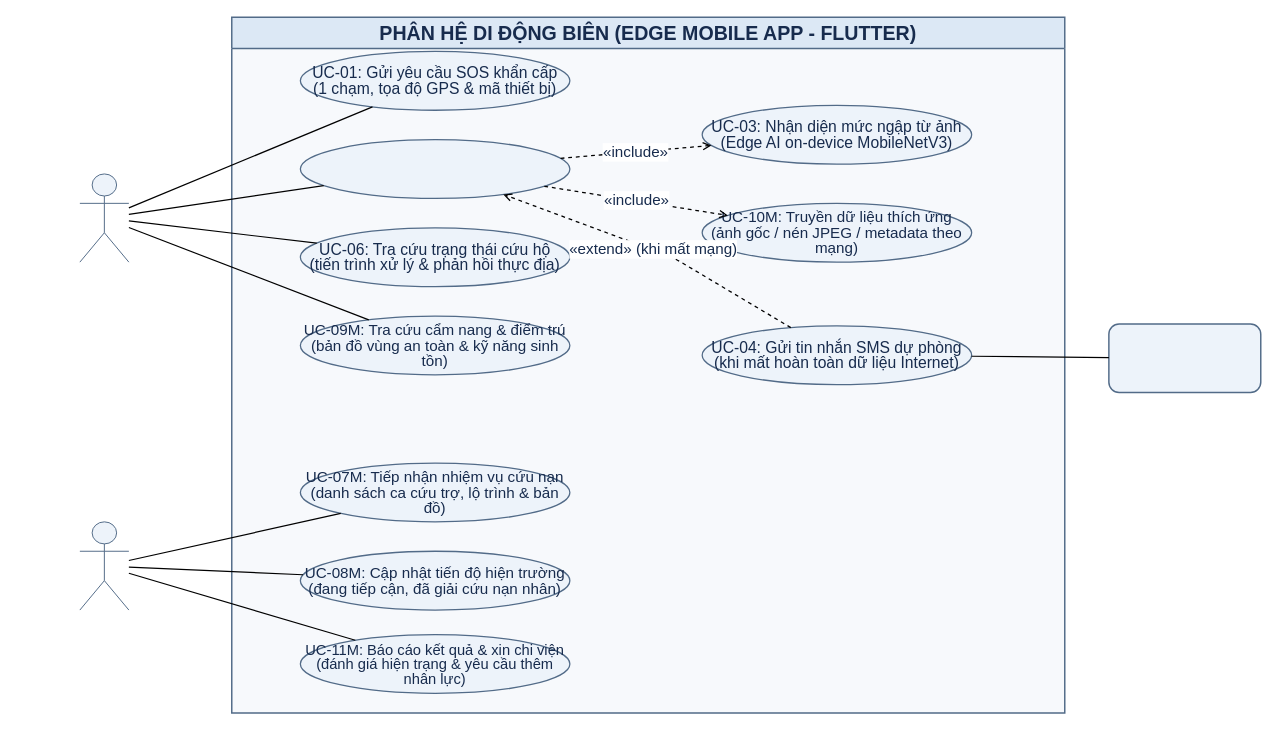
The diagram is 1279 pixels wide and 731 high, and some of its shapes have lost their labels. The centre of each missing label's shape, as x and y in pixels:
Người dân / Nạn nhân: [104,217]
UC-02: Tạo báo cáo cứu hộ chi tiết (số người kẹt, bị thương, nhóm yếu thế): [434,169]
«external system» SMS Gateway / Nhà mạng viễn thông: [1184,358]
Đội cứu hộ thực địa: [104,565]
